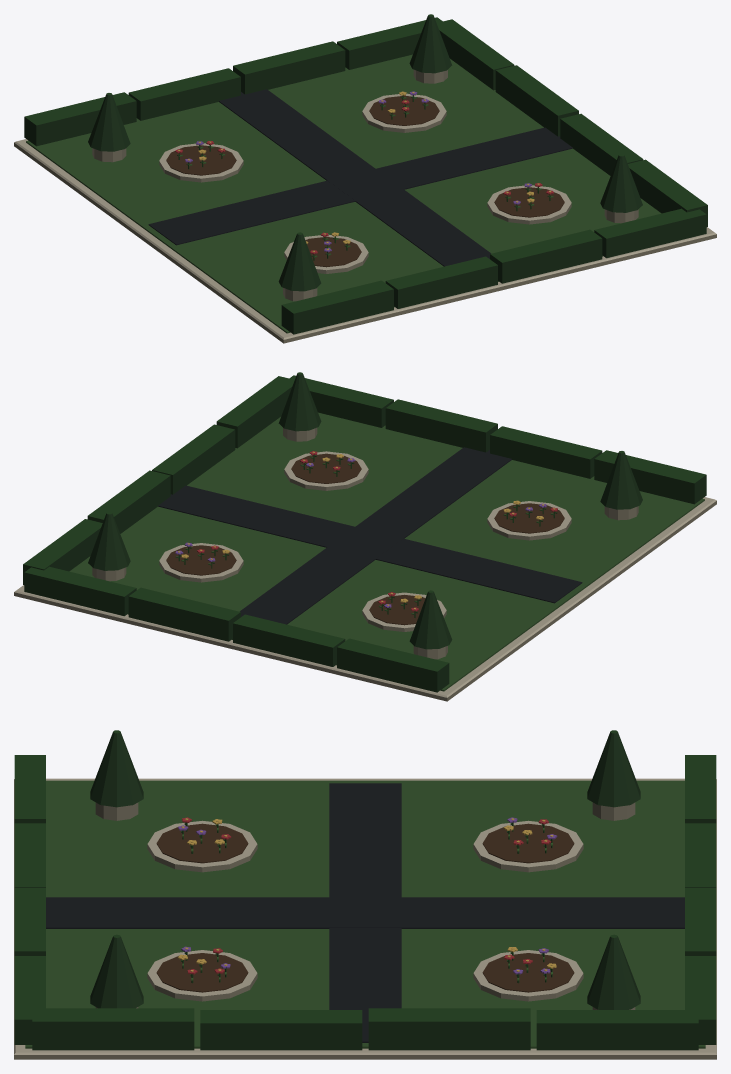
Rendered from lp_forecourt_garden.glb.
The picture shows the model from 3 angles, top to bottom: view 1: azimuth 30°, elevation 25°; view 2: azimuth 150°, elevation 25°; view 3: azimuth 270°, elevation 25°; orthographic projection. The views are drawn at different scales.
Visible parts, largest first — view 1: lp_forecourt_garden; view 2: lp_forecourt_garden; view 3: lp_forecourt_garden.
Boxes of the visible parts, x1=… form: lp_forecourt_garden: x1=14, y1=14, x2=716, y2=343; lp_forecourt_garden: x1=14, y1=372, x2=716, y2=701; lp_forecourt_garden: x1=14, y1=730, x2=716, y2=1059.
Size of the model in its own units: 12.8 by 1.9 by 13.8.
Materials: 1 (1 with a texture image).
